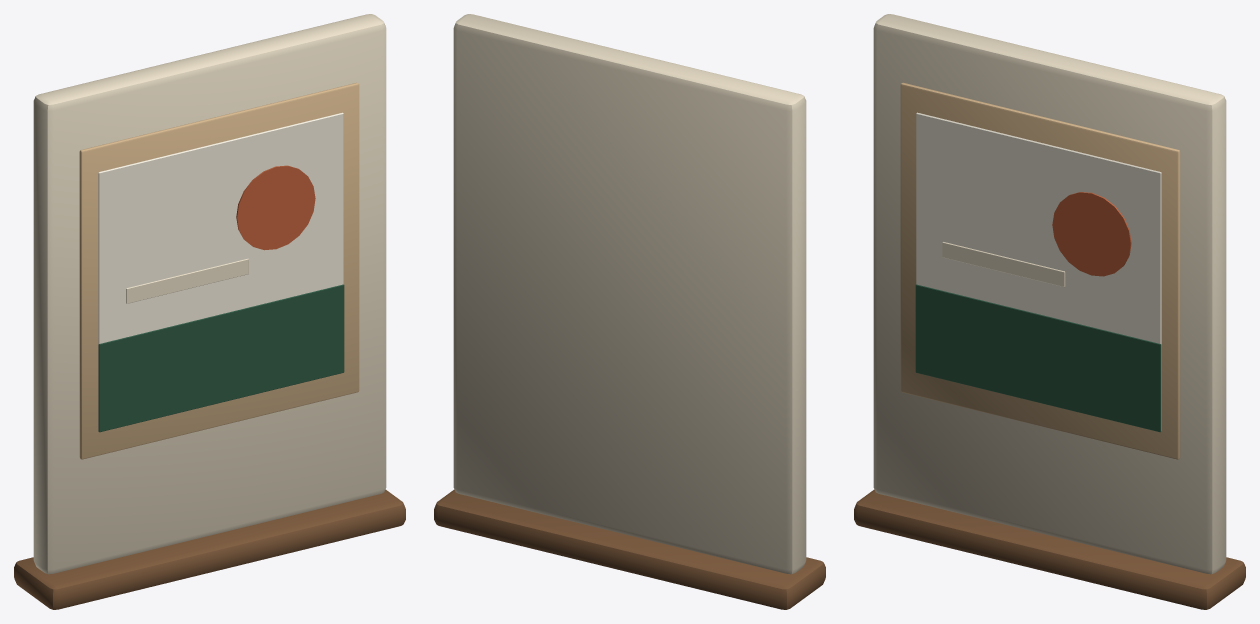
The model's file is gallery_panel.glb.
The picture shows the model from 3 angles, left to right: view 1: azimuth 30°, elevation 25°; view 2: azimuth 150°, elevation 25°; view 3: azimuth 330°, elevation 25°; orthographic projection.
Parts seen in each view (by area): view 1: FURN-gallery_panel; view 2: FURN-gallery_panel; view 3: FURN-gallery_panel.
Boxes of the visible parts, x1=… form: FURN-gallery_panel: x1=14, y1=14, x2=405, y2=609; FURN-gallery_panel: x1=434, y1=14, x2=825, y2=609; FURN-gallery_panel: x1=854, y1=14, x2=1245, y2=609.
Bounding box in the file's own units: 1.5 × 2 × 0.3.
